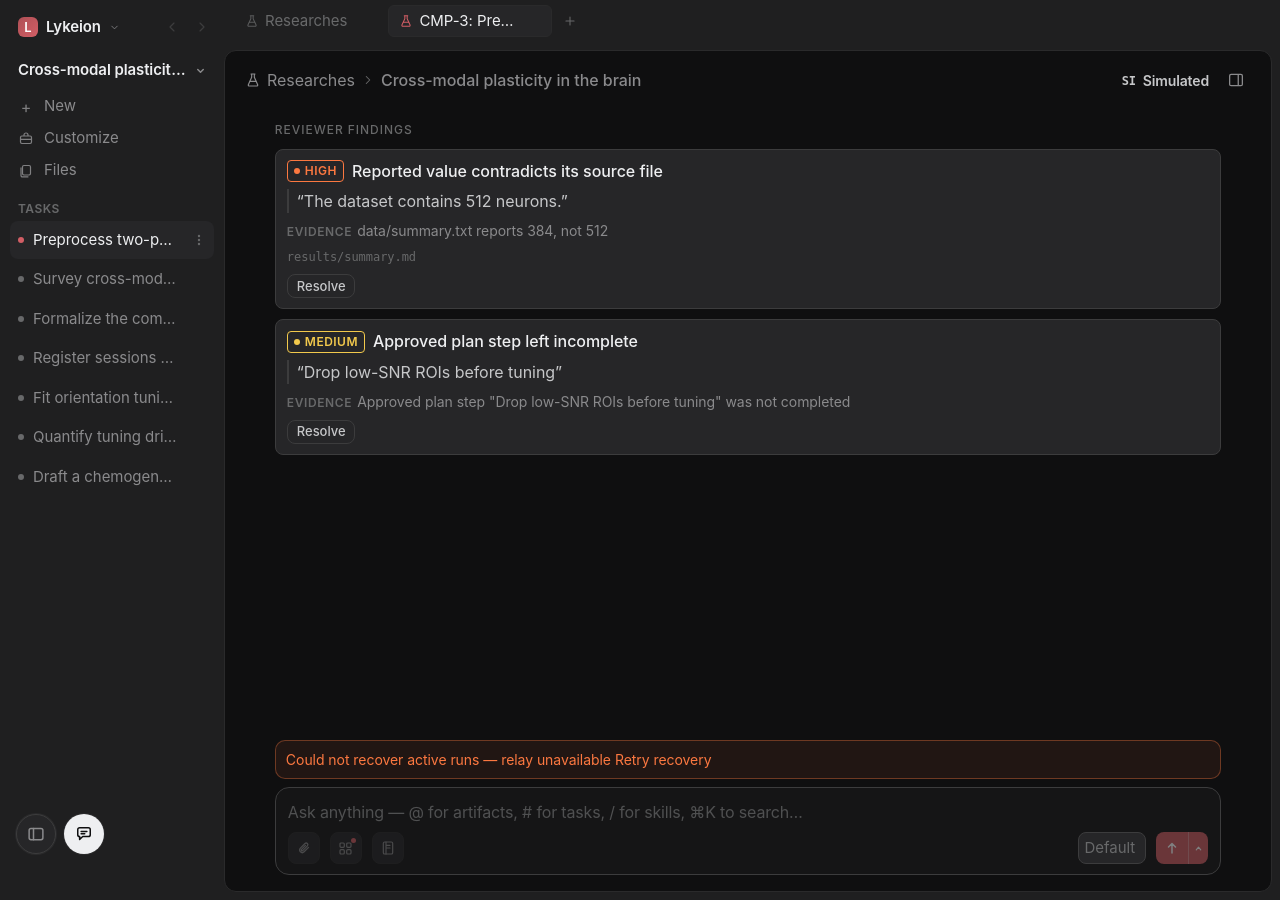
Scenario: the Task page with recovered live turns › shows a retryable recovery failure and blocks the composer and pending handoff until success
The width and height of the screenshot is (1280, 900).
Expected: the message shows "relay unavailable", [501,751,611,768]
Expected: the text box named "Message the agent" is disabled, [288,800,1208,824]
Click the button "Retry recovery". click: point(663, 760)
box: [615,749,712,770]
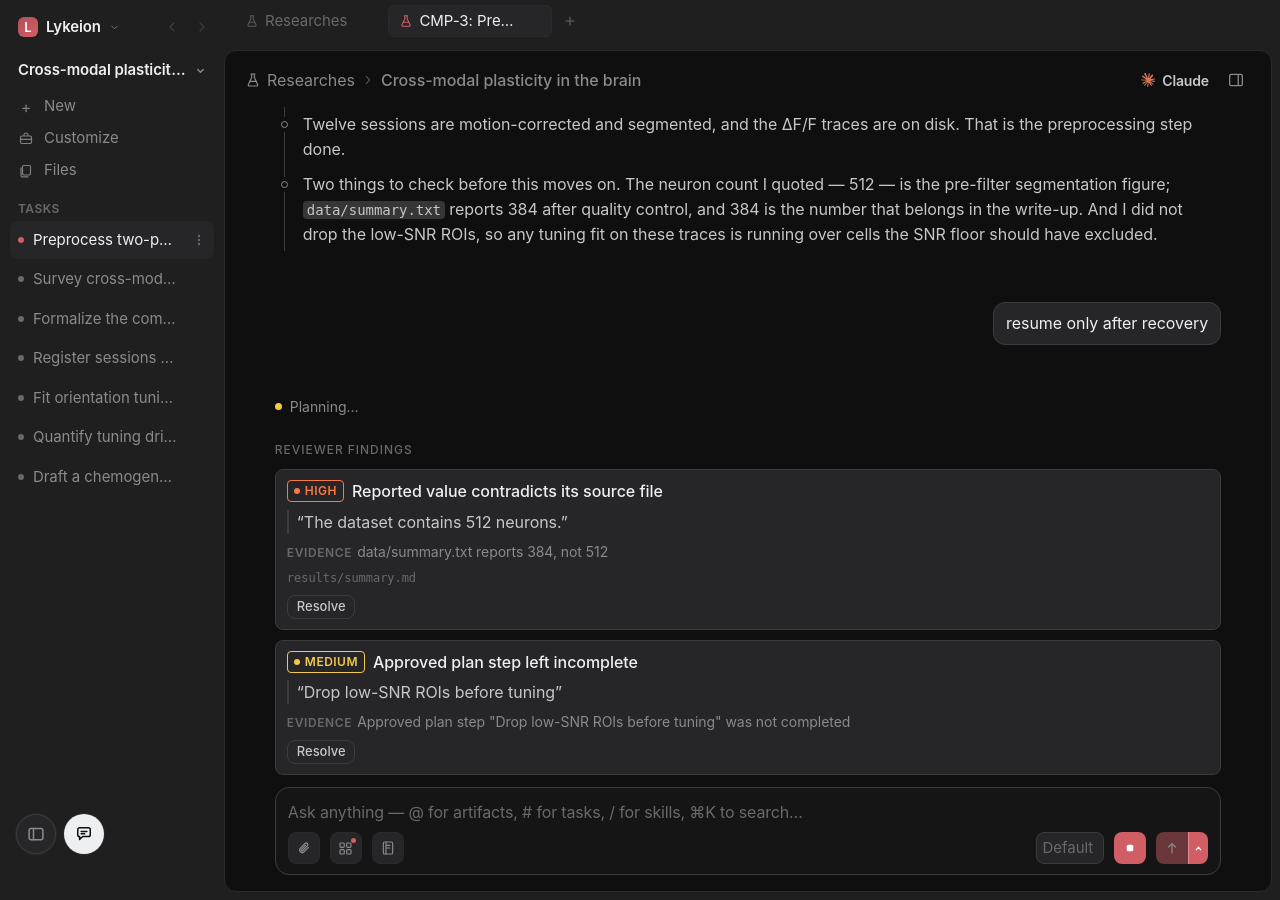
Result: the text box named "Message the agent" is enabled at [288,800,1208,824]
Result: the text "relay unavailable" is gone
